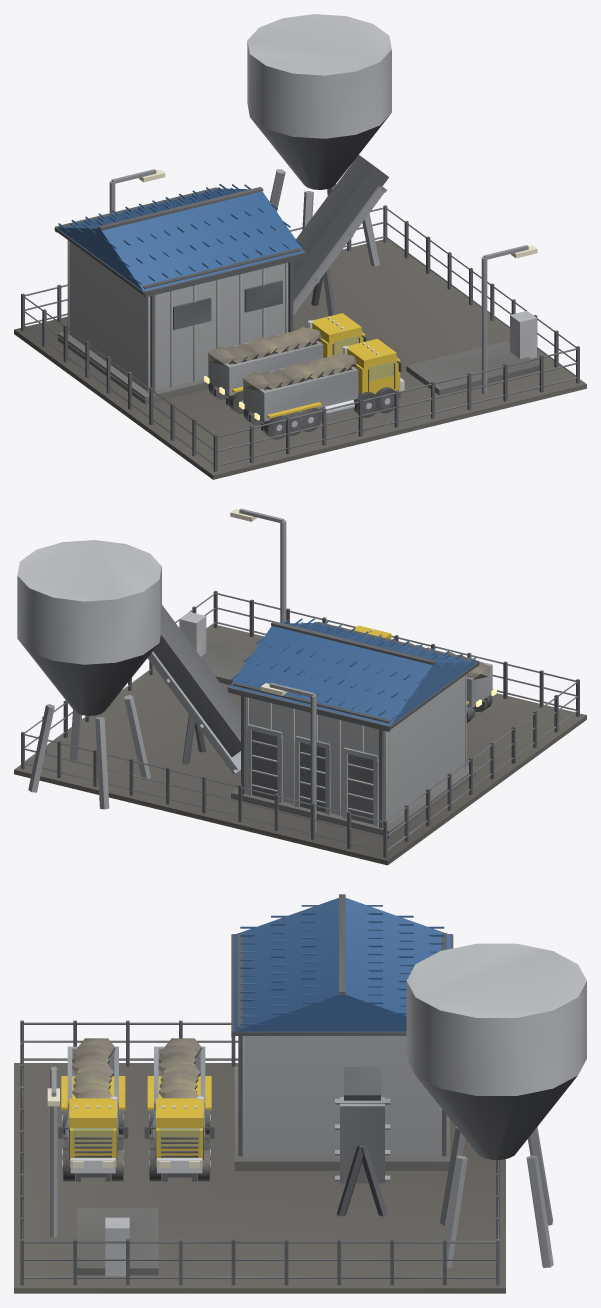
The model's file is Haul_P2.fbx.
3 renders of one model, top to bottom at view 1: azimuth 30°, elevation 25°; view 2: azimuth 150°, elevation 25°; view 3: azimuth 270°, elevation 25°, orthographic. The views are drawn at different scales.
Visible parts, largest first — view 1: Haul.Workshop, Haul.Yard, Haul.Hopper, Haul.Parked1, Haul.Fence, Haul.Conv, Haul.Parked0, Haul.Weighbridge, Haul.Lamp0, Haul.Lamp1; view 2: Haul.Workshop, Haul.Yard, Haul.Hopper, Haul.Fence, Haul.Conv, Haul.Weighbridge, Haul.Parked1, Haul.Lamp1, Haul.Lamp0; view 3: Haul.Yard, Haul.Workshop, Haul.Hopper, Haul.Fence, Haul.Parked0, Haul.Parked1, Haul.Conv, Haul.Weighbridge, Haul.Lamp0.
Boxes of the visible parts, bbox=[...] form: Haul.Workshop: bbox=[54, 184, 306, 404]; Haul.Yard: bbox=[14, 239, 586, 479]; Haul.Hopper: bbox=[247, 14, 391, 266]; Haul.Parked1: bbox=[239, 338, 404, 439]; Haul.Fence: bbox=[21, 205, 579, 472]; Haul.Conv: bbox=[293, 155, 388, 316]; Haul.Parked0: bbox=[204, 313, 366, 413]; Haul.Weighbridge: bbox=[406, 311, 539, 395]; Haul.Lamp0: bbox=[481, 245, 537, 394]; Haul.Lamp1: bbox=[109, 169, 165, 212]; Haul.Workshop: bbox=[227, 618, 479, 838]; Haul.Yard: bbox=[14, 625, 586, 865]; Haul.Hopper: bbox=[17, 540, 161, 809]; Haul.Fence: bbox=[21, 590, 579, 857]; Haul.Conv: bbox=[148, 605, 240, 774]; Haul.Weighbridge: bbox=[179, 612, 252, 684]; Haul.Parked1: bbox=[354, 625, 496, 722]; Haul.Lamp1: bbox=[260, 682, 316, 831]; Haul.Lamp0: bbox=[230, 508, 286, 623]; Haul.Yard: bbox=[14, 1063, 505, 1293]; Haul.Workshop: bbox=[231, 894, 453, 1170]; Haul.Hopper: bbox=[406, 943, 586, 1267]; Haul.Fence: bbox=[20, 1020, 499, 1285]; Haul.Parked0: bbox=[144, 1038, 214, 1181]; Haul.Parked1: bbox=[58, 1038, 128, 1181]; Haul.Conv: bbox=[335, 1067, 390, 1216]; Haul.Weighbridge: bbox=[76, 1208, 158, 1276]; Haul.Lamp0: bbox=[47, 1066, 59, 1237].
Size of the model in its own units: 2600 by 1456 by 2795.
